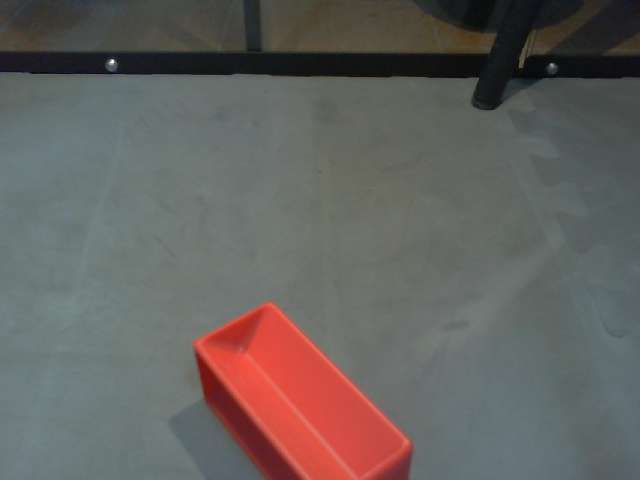RedSample: (190, 297, 414, 480)
